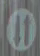Two way: (7, 4, 39, 52)
